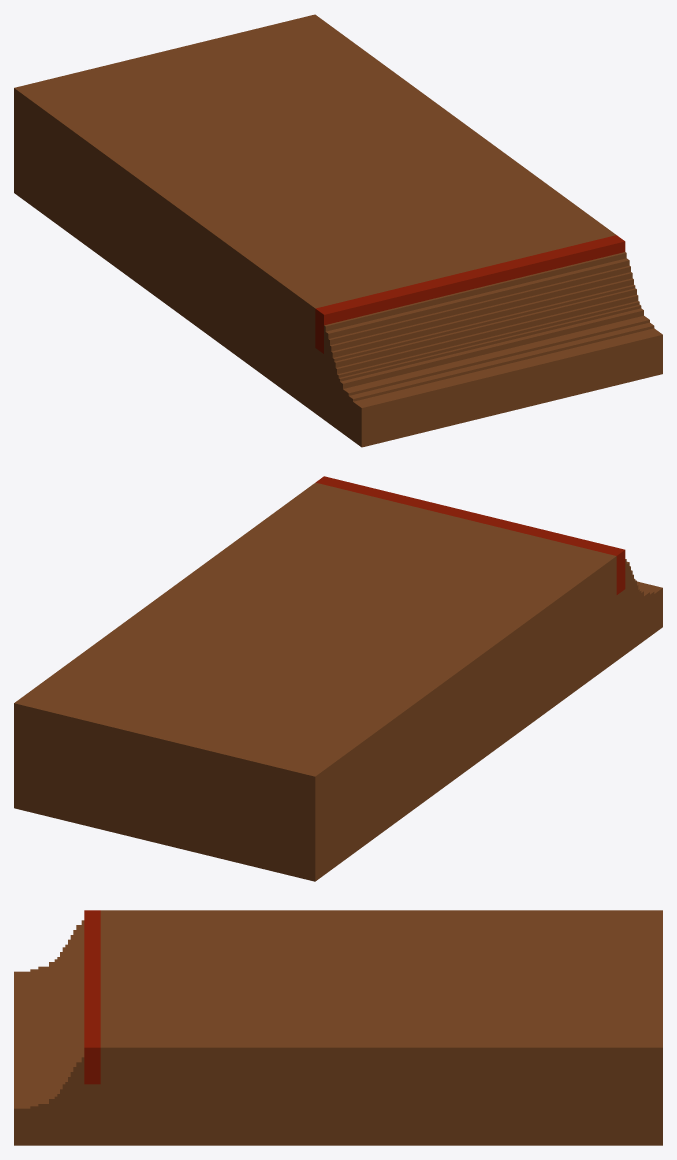
Rendered from Map-11.obj.
3 renders of one model, top to bottom at view 1: azimuth 30°, elevation 25°; view 2: azimuth 150°, elevation 25°; view 3: azimuth 270°, elevation 25°, orthographic. The views are drawn at different scales.
Size of the model in its own units: 12 by 4 by 24.
Materials: 1 (1 with a texture image).
